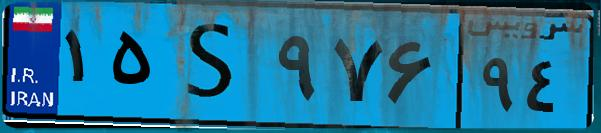1: (57, 26, 110, 100)
4: (525, 38, 570, 115)
5: (110, 28, 158, 98)
6: (385, 28, 445, 110)
7: (330, 28, 385, 110)
9: (270, 28, 330, 110), (475, 38, 525, 113)
S: (158, 12, 270, 120)
